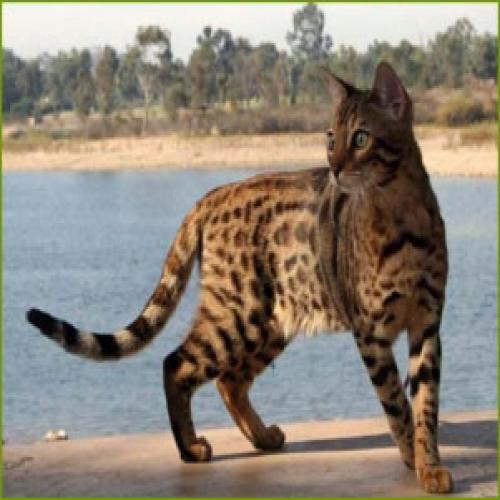cat-face: (304, 57, 426, 202)
